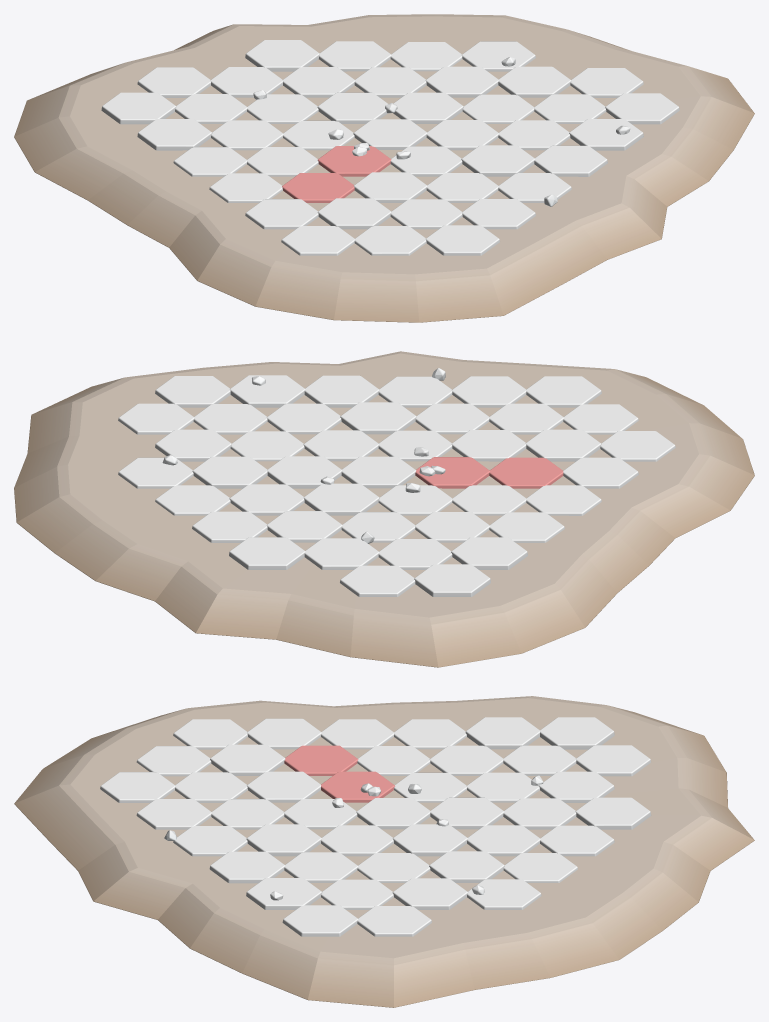
The model's file is salt_crust_island.glb.
The picture shows the model from 3 angles, top to bottom: view 1: azimuth 30°, elevation 25°; view 2: azimuth 150°, elevation 25°; view 3: azimuth 270°, elevation 25°; orthographic projection. The views are drawn at different scales.
Parts seen in each view (by area): view 1: salt_crust_island; view 2: salt_crust_island; view 3: salt_crust_island.
Part boxes in pixels (x1,y1,x2,y2): salt_crust_island: [14, 14, 754, 322]; salt_crust_island: [14, 351, 754, 667]; salt_crust_island: [14, 696, 754, 1007].
Size of the model in its own units: 12.35 by 0.6699 by 12.65.
1 material, 1 textured.
